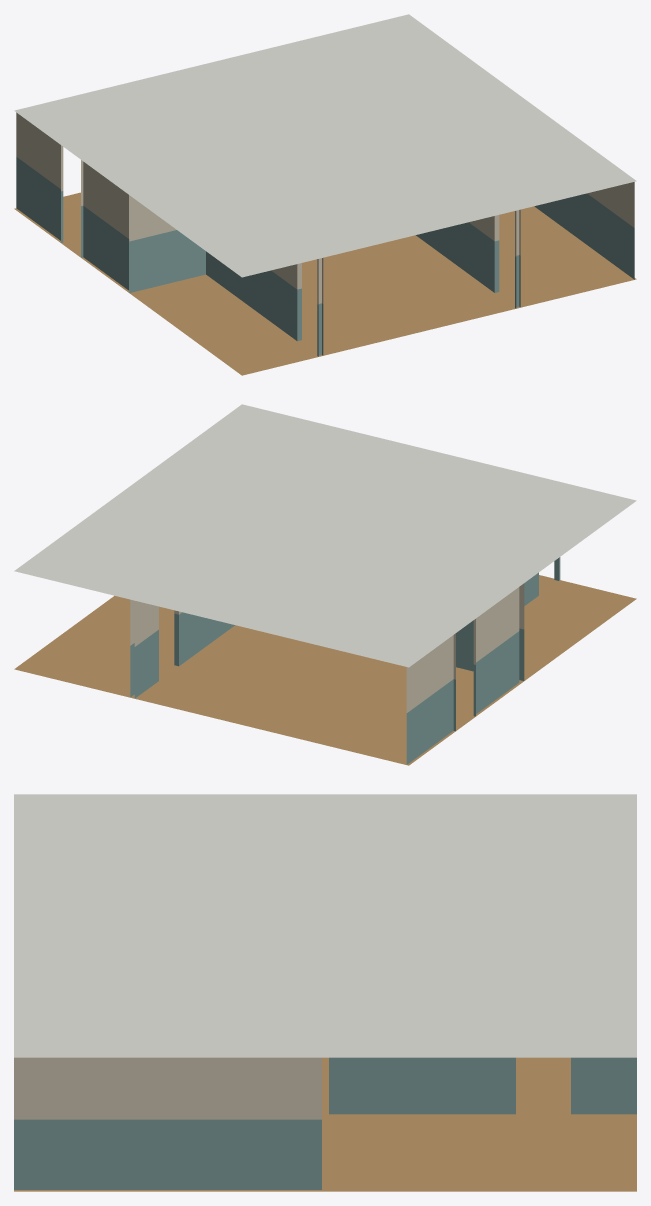
File: chunk_3_1.glb
3 views of the same model, one above another, from view 1: azimuth 30°, elevation 25°; view 2: azimuth 150°, elevation 25°; view 3: azimuth 270°, elevation 25° (orthographic). The views are drawn at different scales.
Visible parts, largest first — view 1: chunk_3_1; view 2: chunk_3_1; view 3: chunk_3_1.
Part boxes in pixels (x1,y1,x2,y2): chunk_3_1: (14,14,636,375); chunk_3_1: (14,404,636,765); chunk_3_1: (14,794,636,1191).
Size of the model in its own units: 12 by 2.85 by 12.
